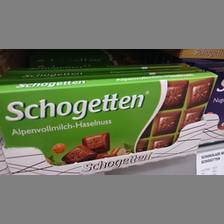chocolate: (3, 74, 216, 165)
